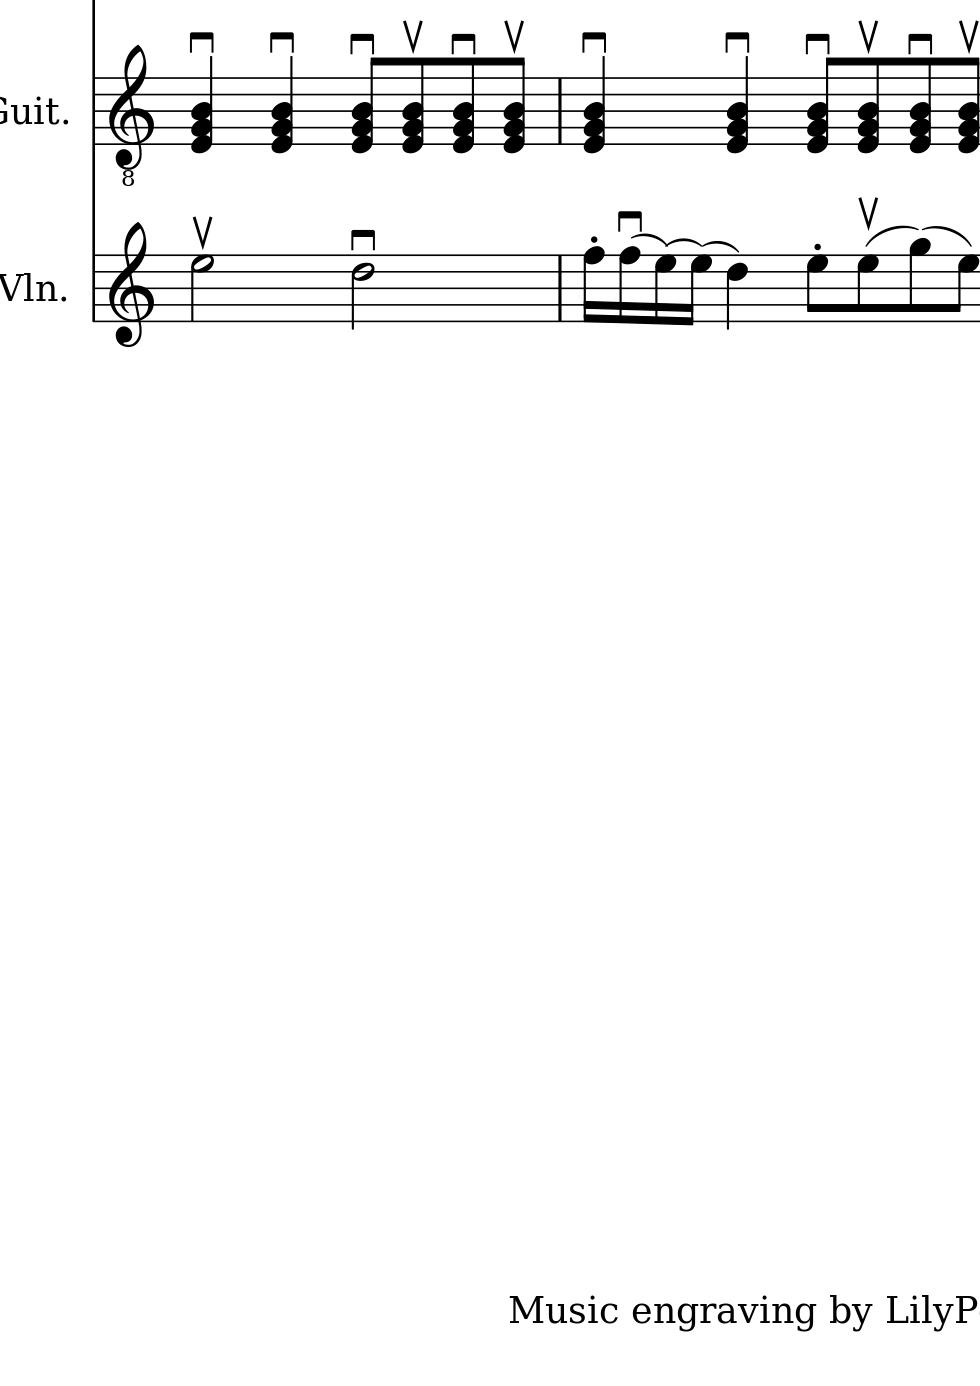16_7: (681, 252, 712, 328), (653, 252, 676, 326)
16_8: (580, 245, 603, 324), (617, 246, 640, 324)
2_6: (349, 255, 374, 331)
2_7: (188, 253, 214, 323)
4_6: (724, 253, 748, 330)
4_th: (581, 53, 608, 157), (189, 53, 214, 157), (269, 52, 294, 158), (725, 53, 750, 158)
8_7: (950, 252, 977, 323), (855, 253, 880, 323), (805, 253, 828, 324)
8_9: (906, 236, 932, 324)
8_th: (804, 56, 839, 157), (350, 56, 383, 158), (502, 55, 527, 157), (401, 58, 427, 156), (908, 56, 933, 157), (452, 55, 476, 157), (856, 58, 881, 155), (957, 56, 980, 156)
Down_bow: (186, 29, 217, 55), (447, 31, 479, 56), (904, 31, 937, 56), (266, 29, 297, 55), (578, 29, 609, 55), (721, 29, 752, 55), (346, 31, 378, 56), (348, 226, 377, 253), (802, 31, 833, 56), (615, 208, 644, 234)
Gclef: (106, 221, 155, 349)
Guit: (1, 95, 59, 128)
Lower_Gclef: (107, 42, 155, 188)
Single_barline: (552, 256, 567, 320), (553, 78, 567, 143), (87, 78, 100, 146), (87, 256, 100, 322)
Slur: (865, 224, 918, 248), (923, 225, 972, 249), (629, 232, 666, 248), (703, 239, 739, 255), (666, 238, 702, 249)
Tremolo_bar: (191, 213, 214, 253), (401, 17, 424, 55), (502, 18, 525, 55), (857, 195, 880, 232), (857, 18, 879, 55), (956, 18, 978, 54)
Vln: (1, 269, 58, 308)
